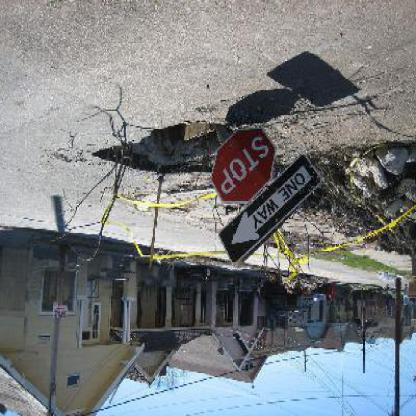pothole: (91, 120, 242, 184)
